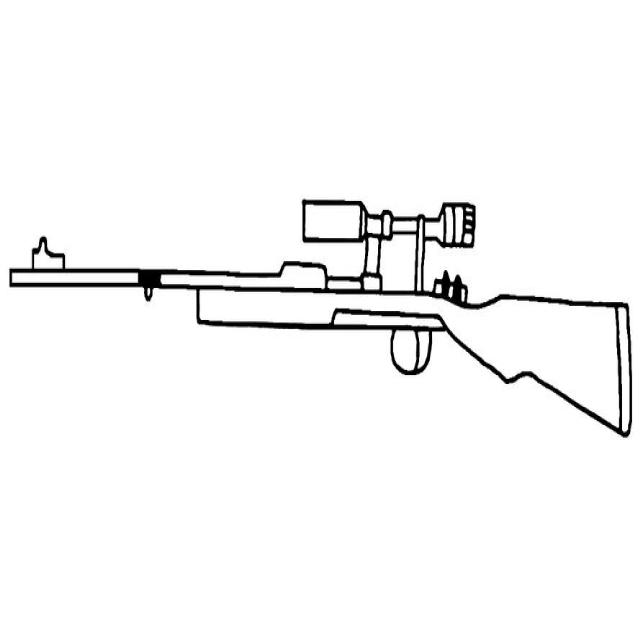gun: (9, 196, 632, 438)
